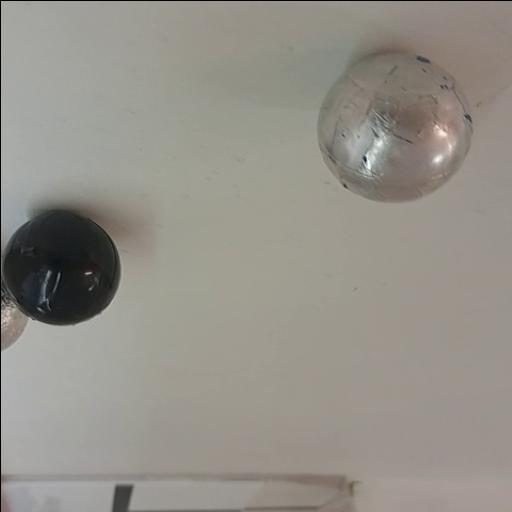alive: (313, 48, 475, 206), (0, 271, 28, 354)
dead: (2, 209, 122, 326)
